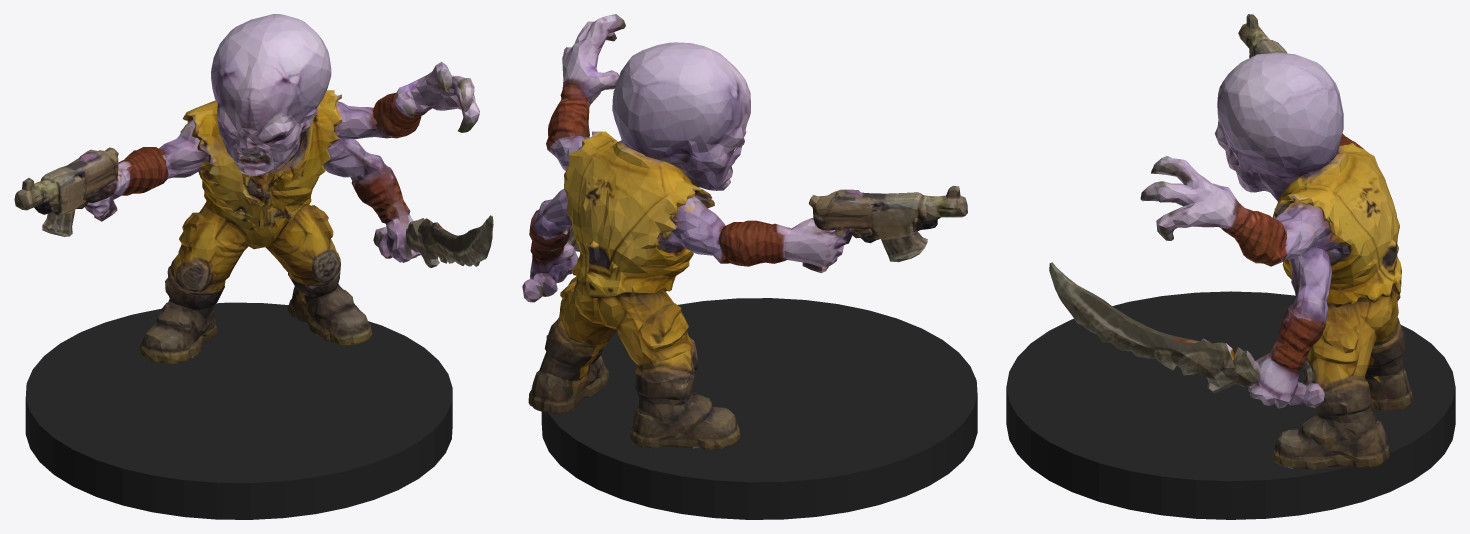
File: acolyte-hybrid.glb
The picture shows the model from 3 angles, left to right: view 1: azimuth 30°, elevation 25°; view 2: azimuth 150°, elevation 25°; view 3: azimuth 270°, elevation 25°; orthographic projection. The views are drawn at different scales.
Visible parts, largest first — view 1: base, figure; view 2: figure, base; view 3: figure, base.
Part boxes in pixels (bbox=[...]): base: bbox=[25, 302, 452, 519]; figure: bbox=[14, 14, 493, 364]; figure: bbox=[522, 14, 967, 449]; base: bbox=[541, 298, 977, 519]; figure: bbox=[1049, 14, 1412, 469]; base: bbox=[1006, 291, 1455, 519].
Bounding box in the file's own units: 1.45 × 1.22 × 1.26.
2 materials, 1 textured.
